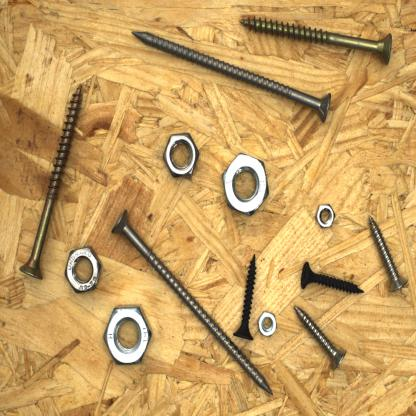screw: (109, 205, 276, 400), (130, 26, 334, 125), (17, 80, 84, 283), (238, 16, 397, 66), (290, 302, 348, 373), (367, 213, 410, 292), (300, 257, 367, 296), (231, 252, 260, 342)
